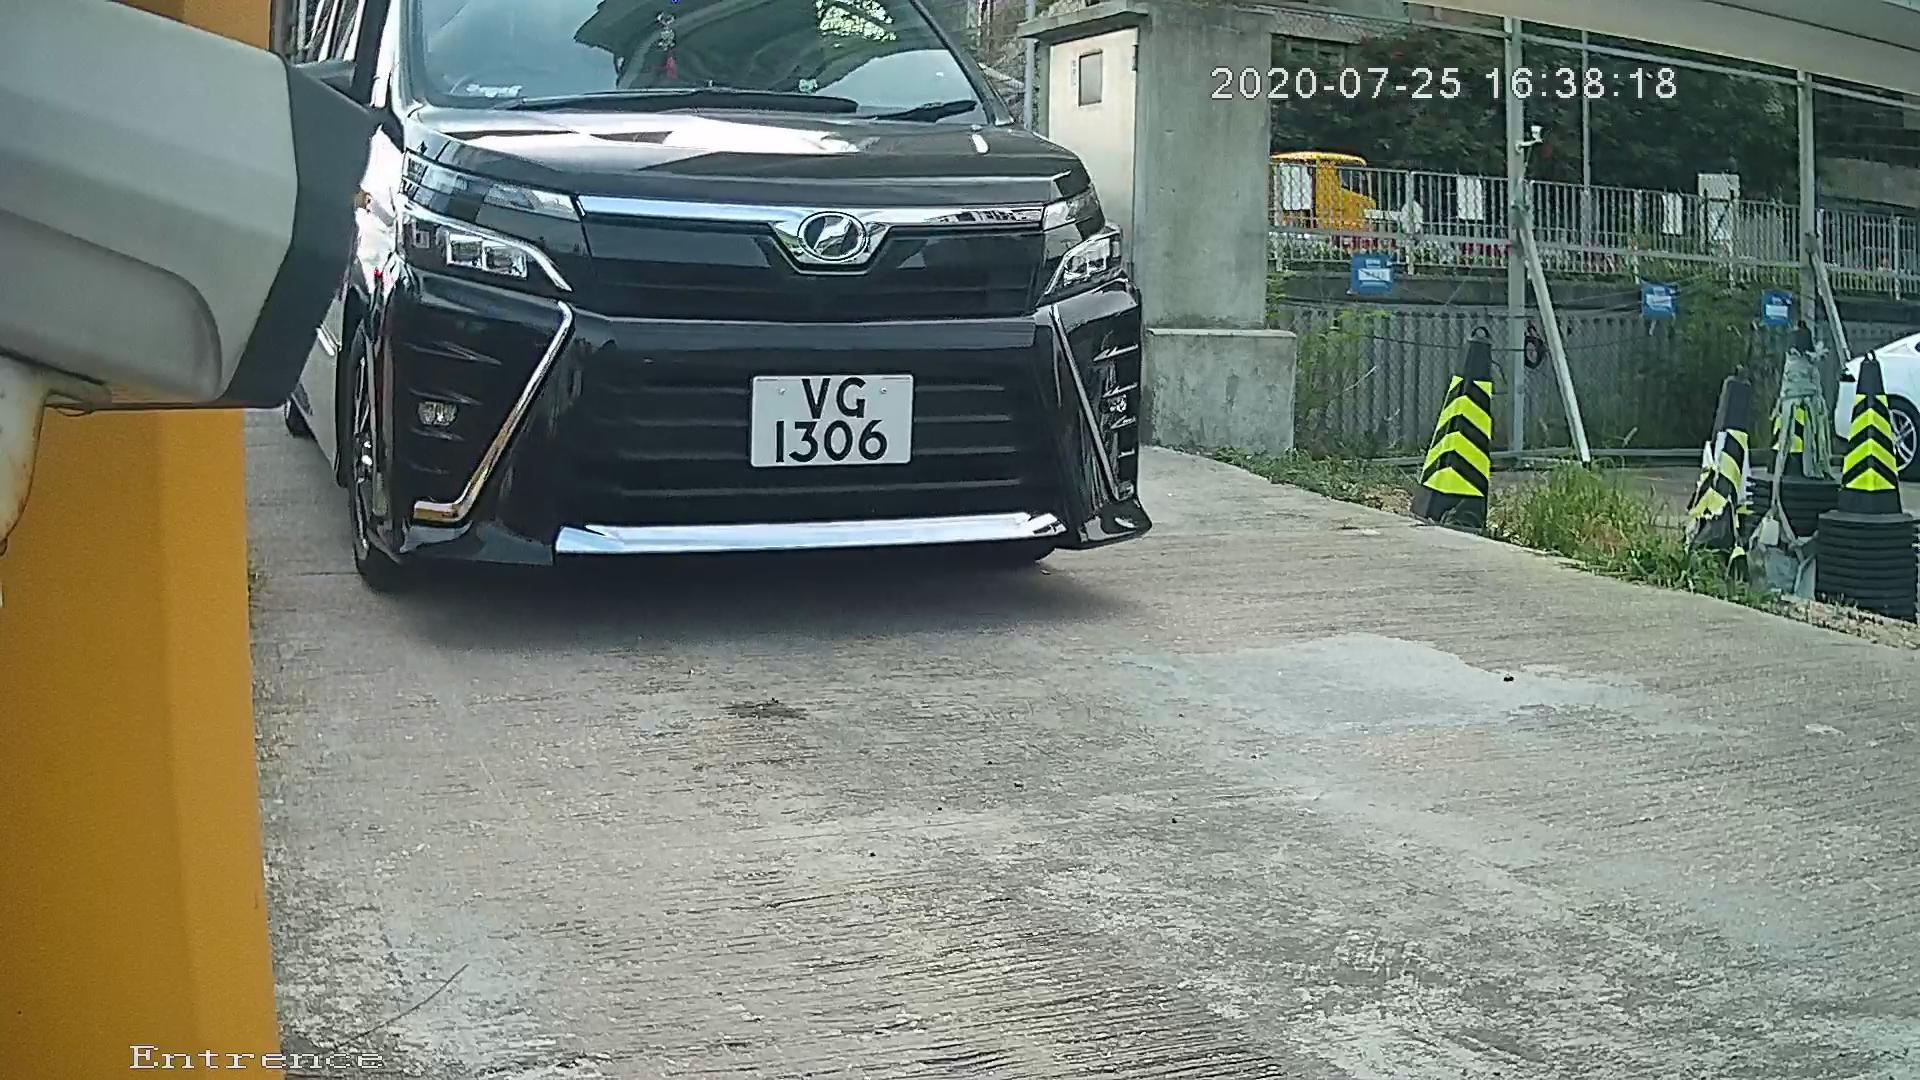Car: (146, 1, 1218, 642)
License Plate: (729, 357, 943, 487)
